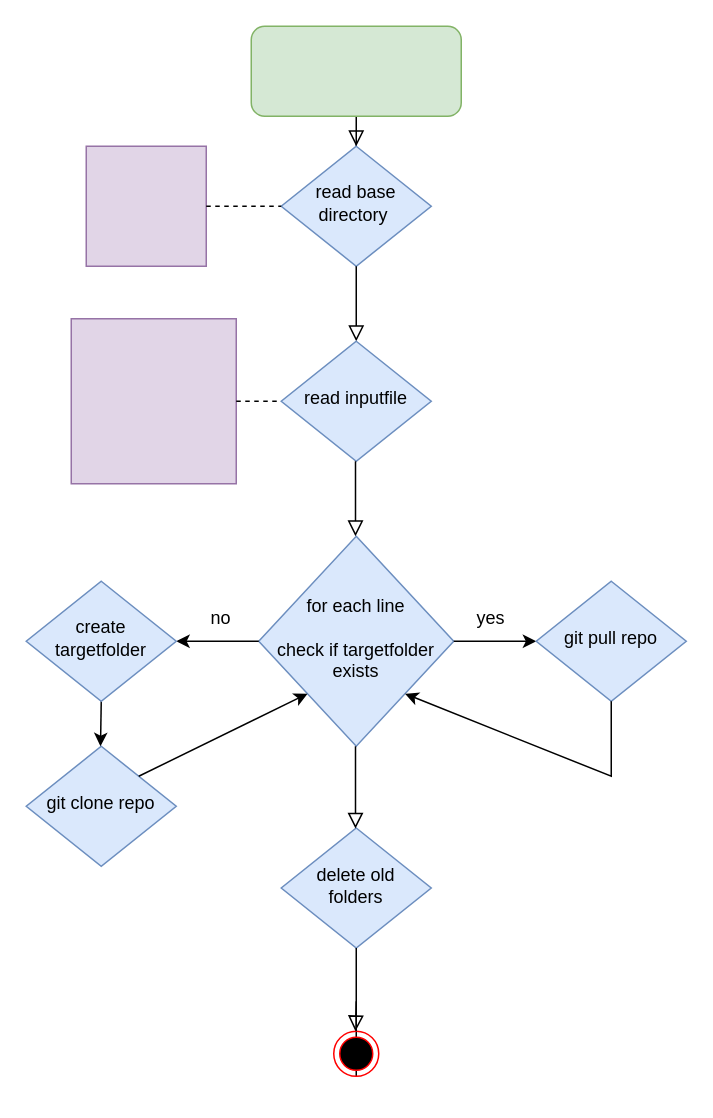
Image size: 713x1118. Some labels were removed from this diagram. Here are the shapes that lost their labels. From the top down, the box of each, then its label:
(250, 25, 461, 116): start git_clone_pull_repos.py
(85, 145, 206, 266): Config base directory
(70, 317, 236, 484): Inputfile URL + Targetfolder
